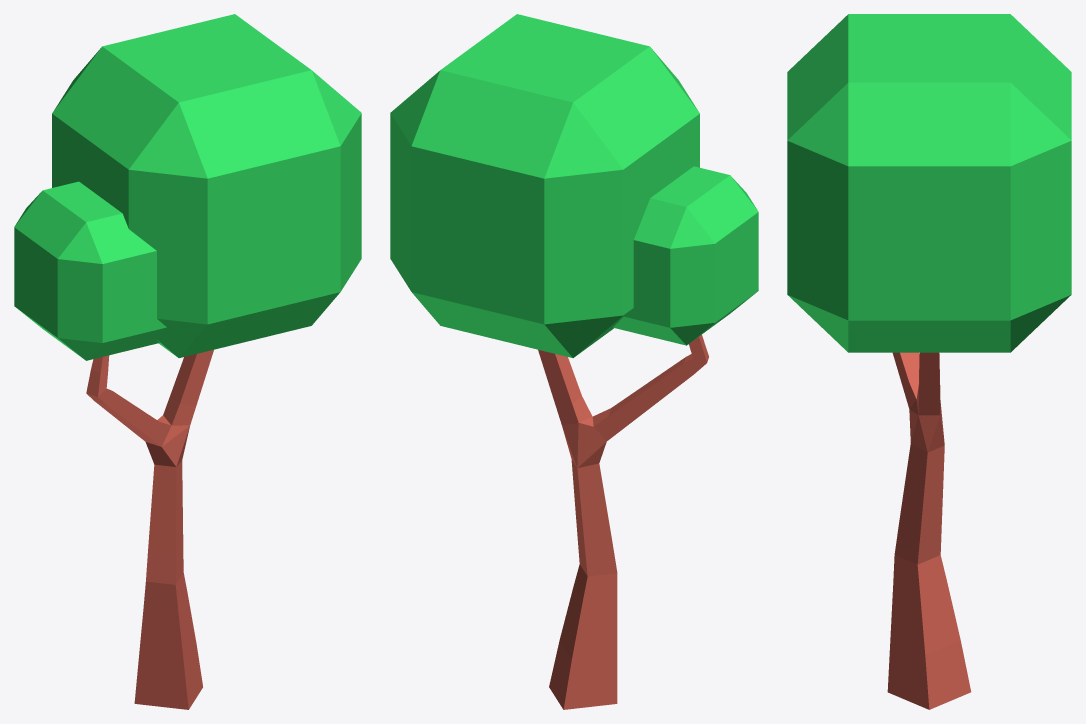
File: P_Tree.fbx
3 renders of one model, left to right at view 1: azimuth 30°, elevation 25°; view 2: azimuth 150°, elevation 25°; view 3: azimuth 270°, elevation 25°, orthographic. The views are drawn at different scales.
Visible parts, largest first — view 1: Cube.001; view 2: Cube.001; view 3: Cube.001.
Boxes of the visible parts, left/top/right/bottom form: Cube.001: left=14, top=14, right=361, bottom=709; Cube.001: left=390, top=14, right=758, bottom=709; Cube.001: left=787, top=14, right=1071, bottom=709.
Size of the model in its own units: 306 by 617 by 240.
